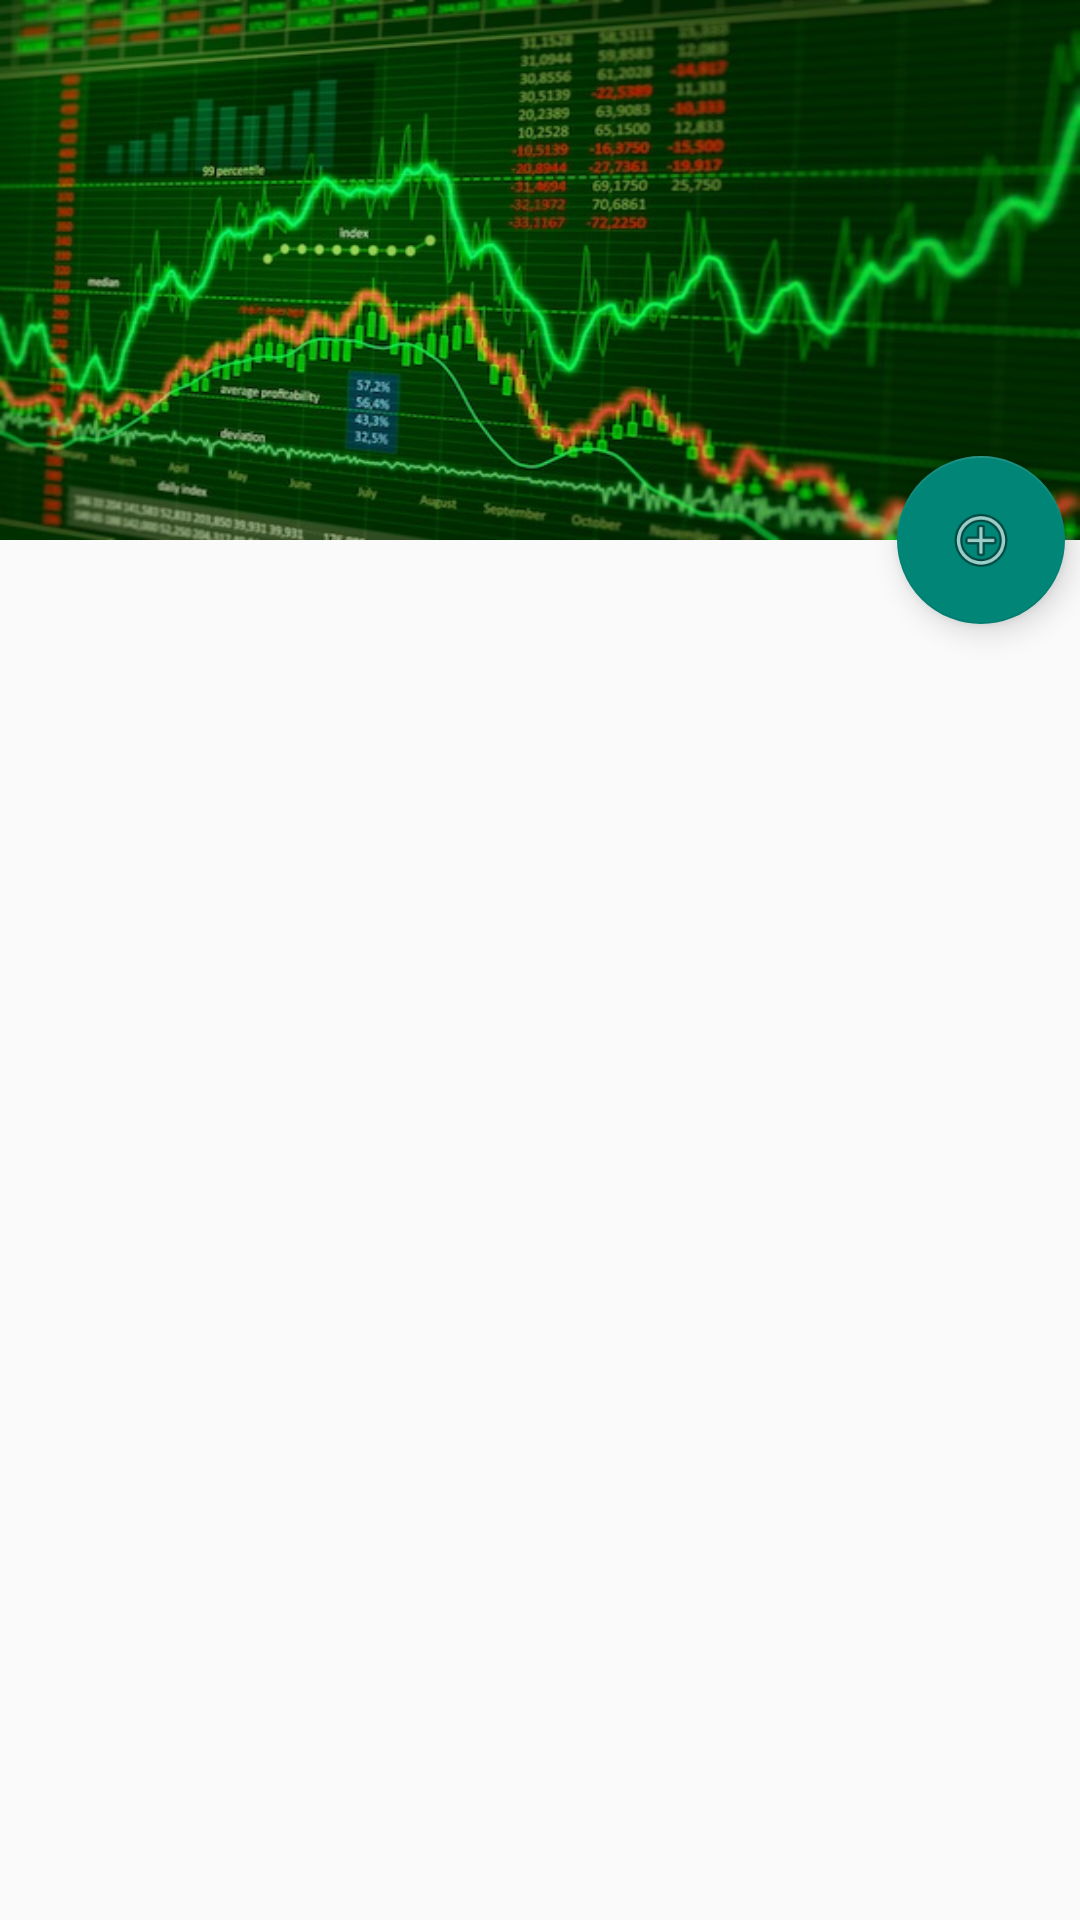

Icons on this 1080px x 1920px Android screen, each with the point to tap as (x=x, y=y):
add: (x=981, y=540)
